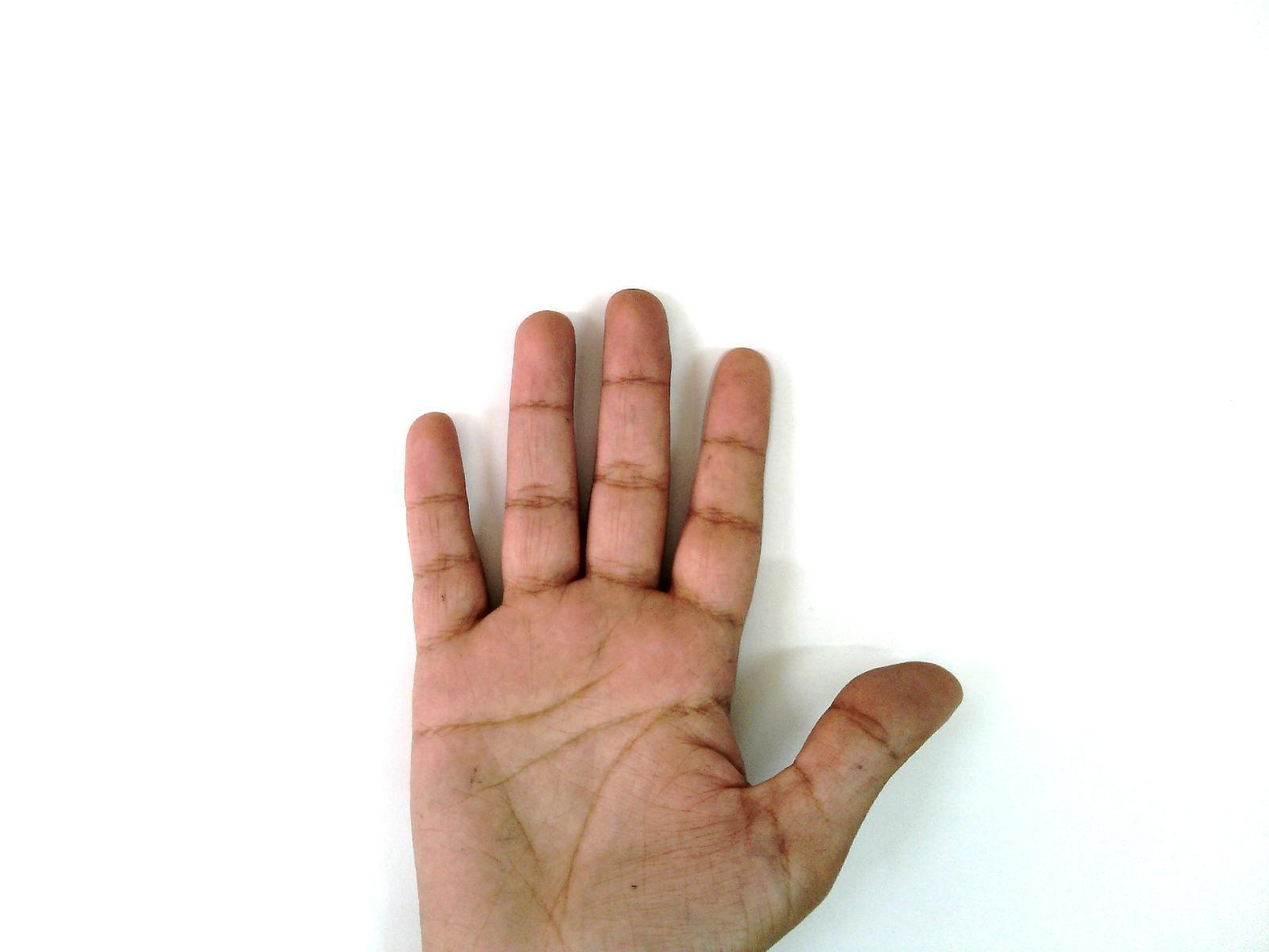open_palm: (400, 287, 966, 951)
